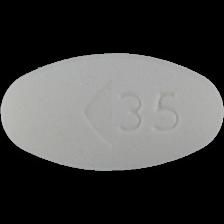16252-599: (0, 0, 224, 224)
